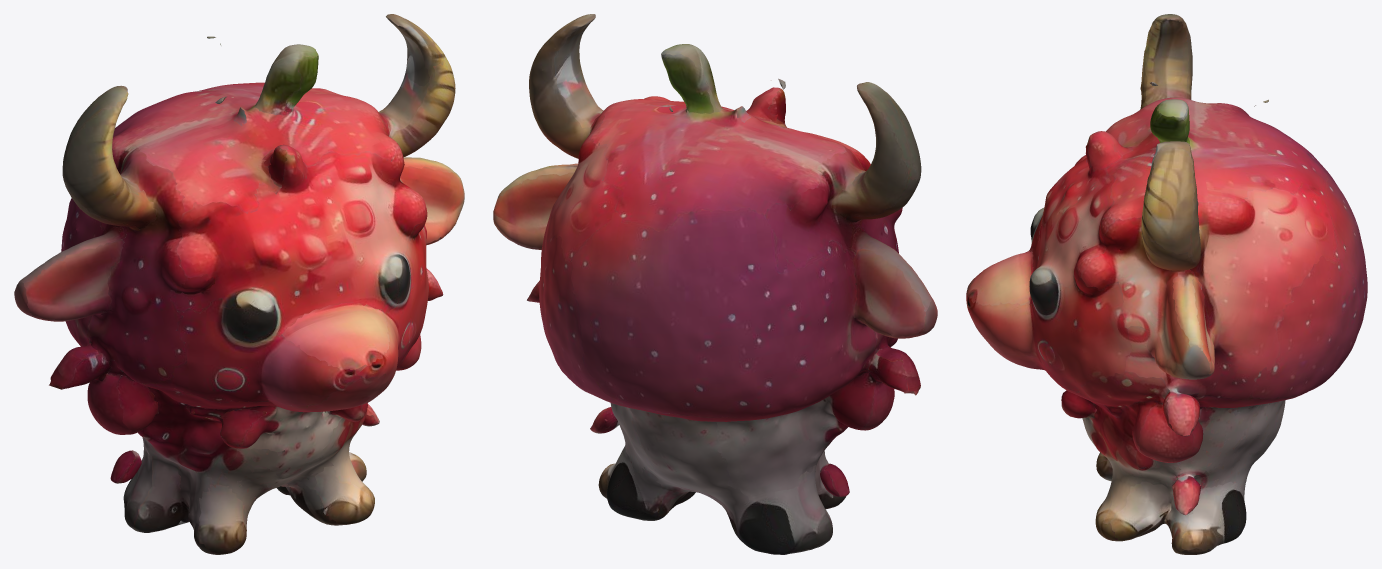
The picture shows the model from 3 angles, left to right: view 1: azimuth 30°, elevation 25°; view 2: azimuth 150°, elevation 25°; view 3: azimuth 270°, elevation 25°; orthographic projection. The views are drawn at different scales.
Parts seen in each view (by area): view 1: world; view 2: world; view 3: world.
Part boxes in pixels (x1,y1,x2,y2): world: (14, 14, 464, 554); world: (493, 14, 937, 554); world: (966, 14, 1367, 554).
Size of the model in its own units: 1.98 by 1.98 by 1.68.
Materials: 1 (1 with a texture image).
